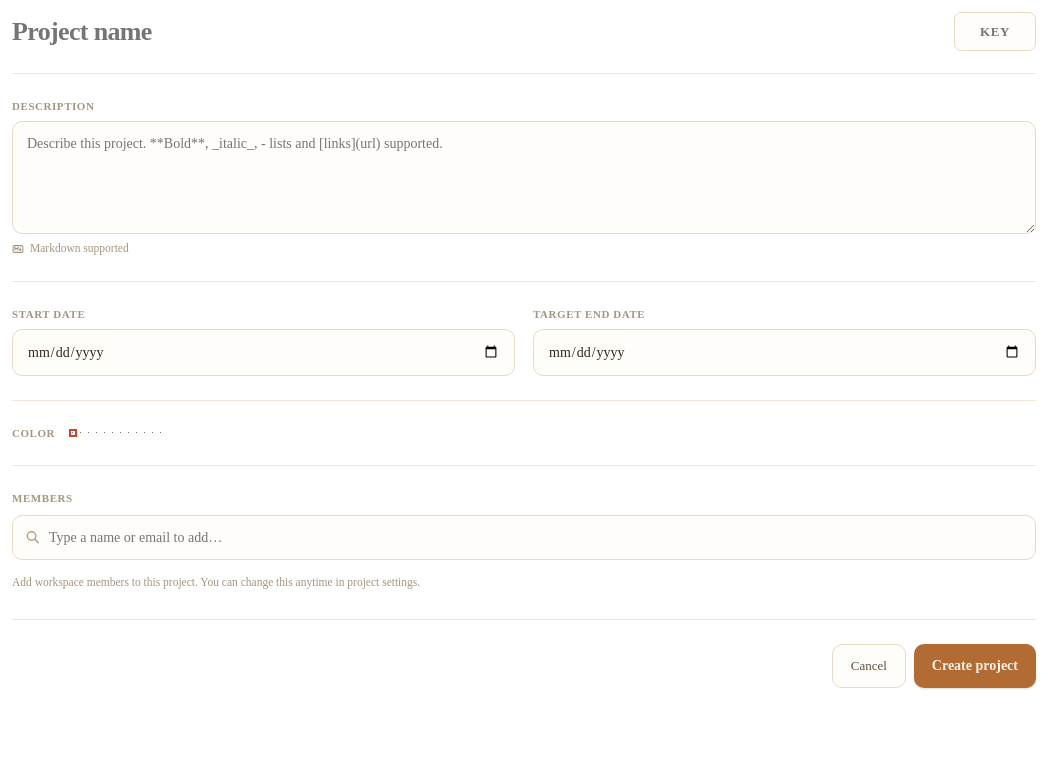
Scenario: CreateProjectForm › auto-generates key 'MA' on name blur for single-word name
Step 1. Type "Marketing" into the field labelled "Project name" → (476, 32), box [12,12,940,51]
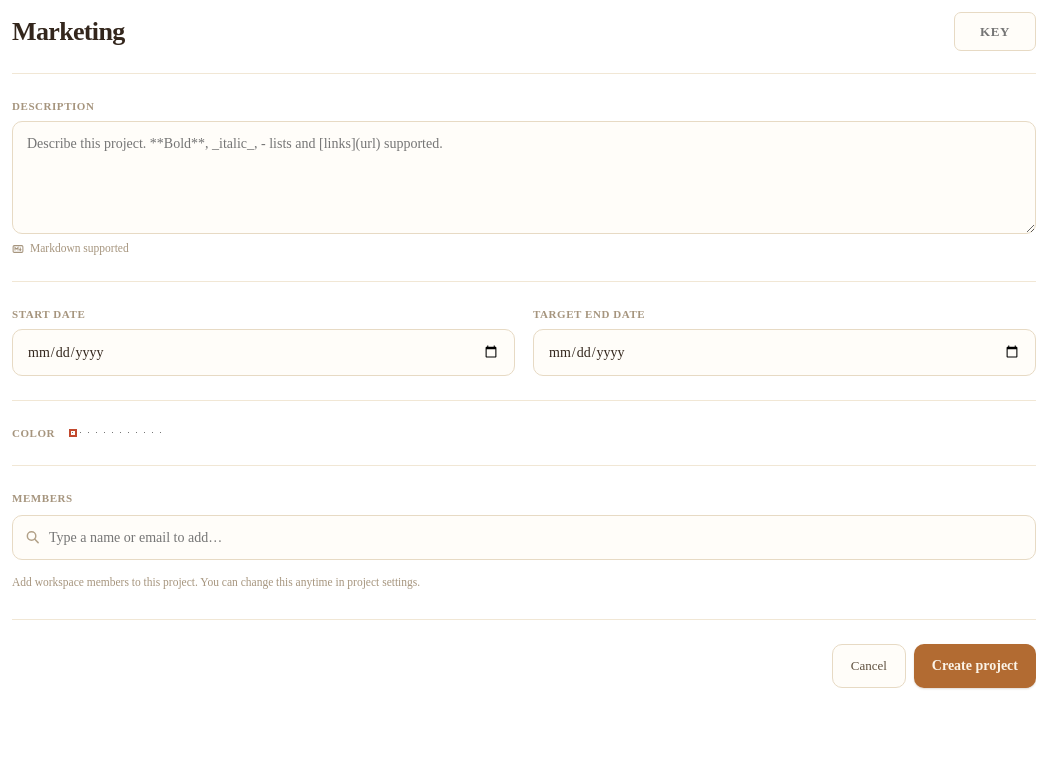
Step 2. Leave the field named "Project name", box [12,12,940,51]
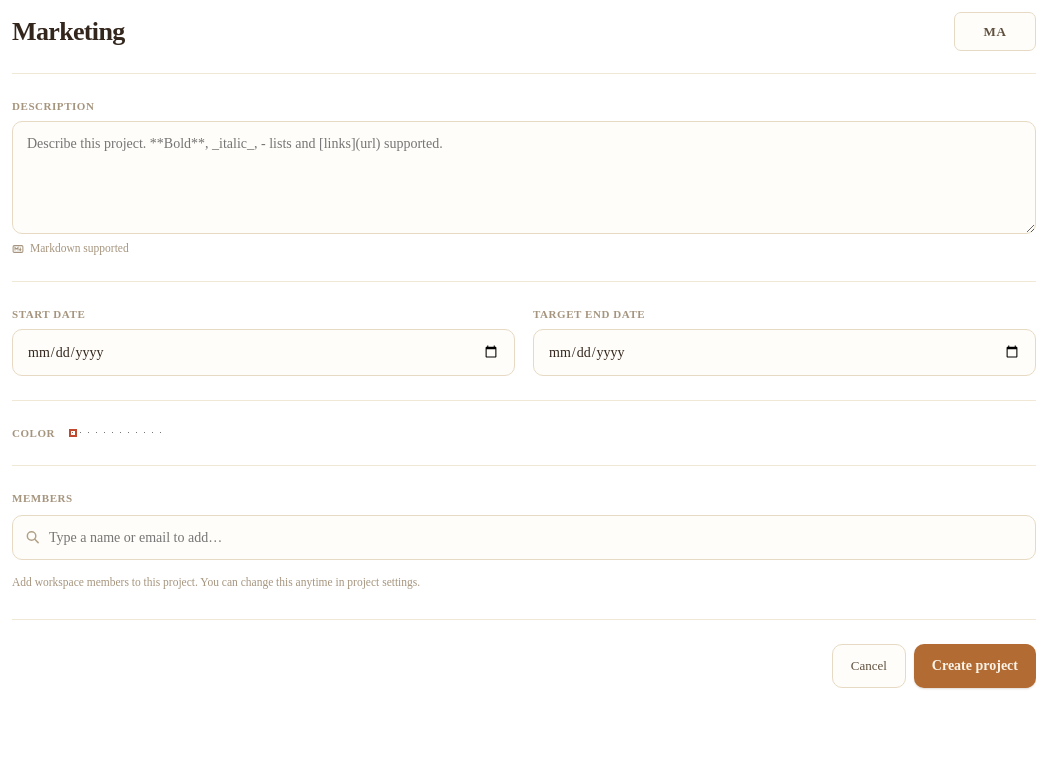
expect the field named "project key" holds "MA": met, box [954,12,1036,51]
